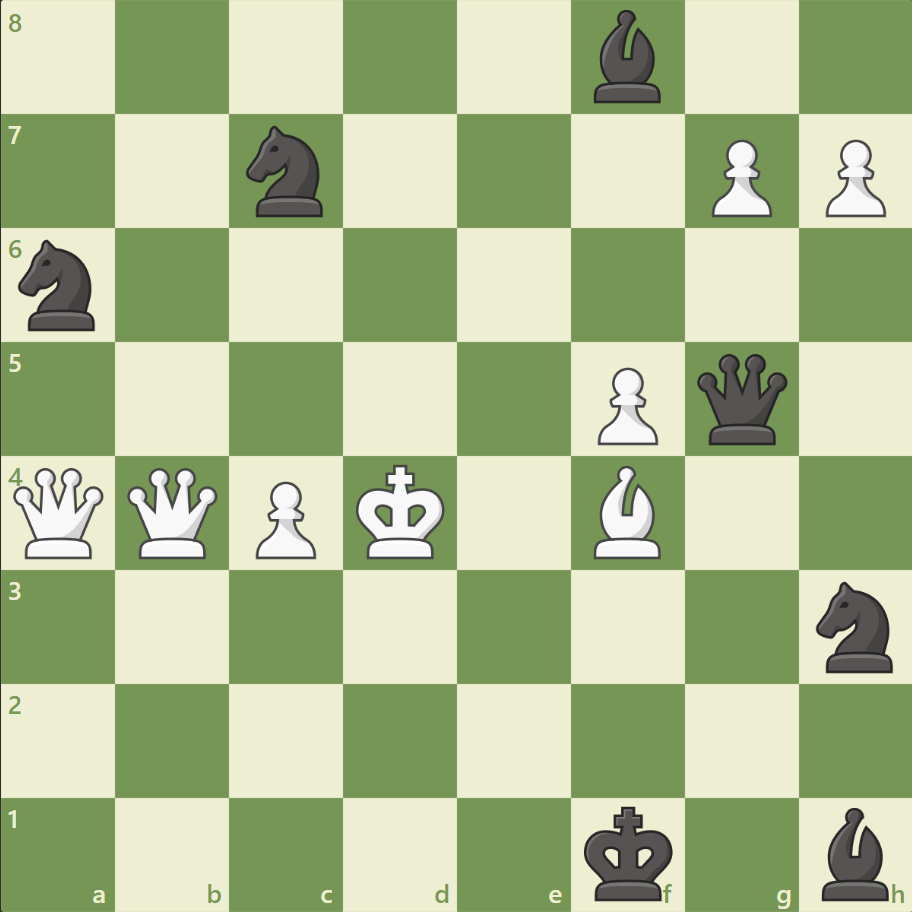B: (585, 460, 669, 563)
K: (351, 458, 451, 566)
P: (701, 132, 776, 223), (247, 473, 322, 564), (815, 132, 889, 223), (588, 359, 662, 450)
Q: (10, 463, 109, 562), (124, 463, 223, 562)
b: (585, 6, 669, 109), (812, 801, 896, 904)
k: (579, 798, 679, 906)
n: (11, 234, 108, 337), (238, 121, 335, 223), (806, 575, 903, 677)
q: (691, 349, 790, 449)
